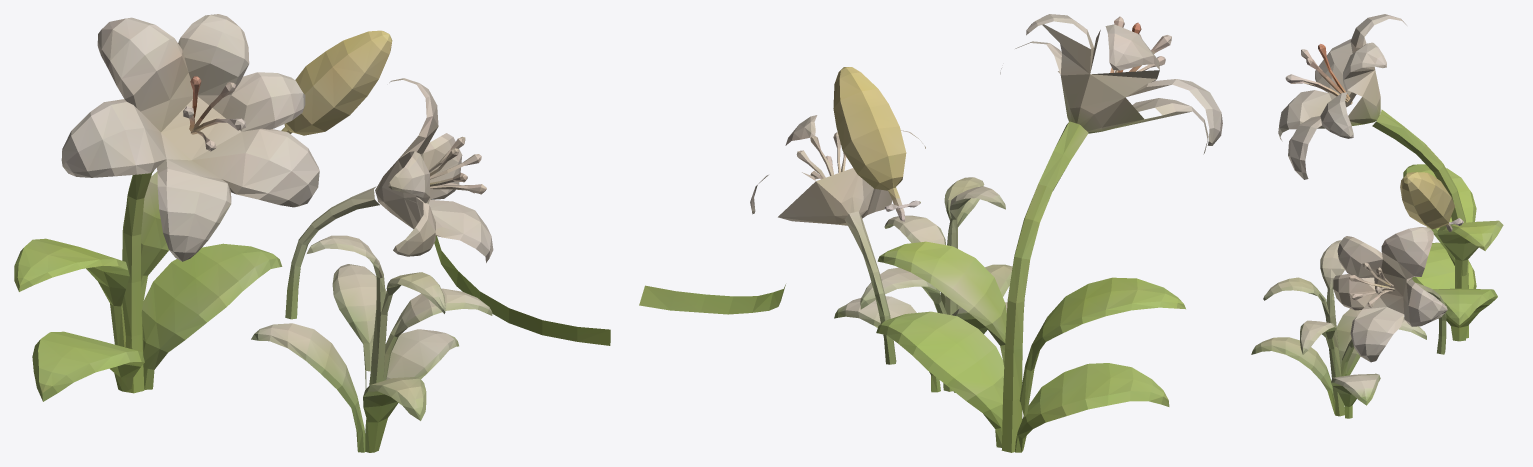
File: lily.glb
3 views of the same model, side by side, from view 1: azimuth 30°, elevation 25°; view 2: azimuth 150°, elevation 25°; view 3: azimuth 270°, elevation 25° (orthographic). The views are drawn at different scales.
Parts seen in each view (by area): view 1: geometry_0; view 2: geometry_0; view 3: geometry_0.
Boxes of the visible parts, x1,y1,x2,y2 form: geometry_0: (14, 14, 610, 452); geometry_0: (639, 14, 1222, 452); geometry_0: (1251, 14, 1503, 418).
Size of the model in its own units: 0.1973 by 0.1626 by 0.1211.
